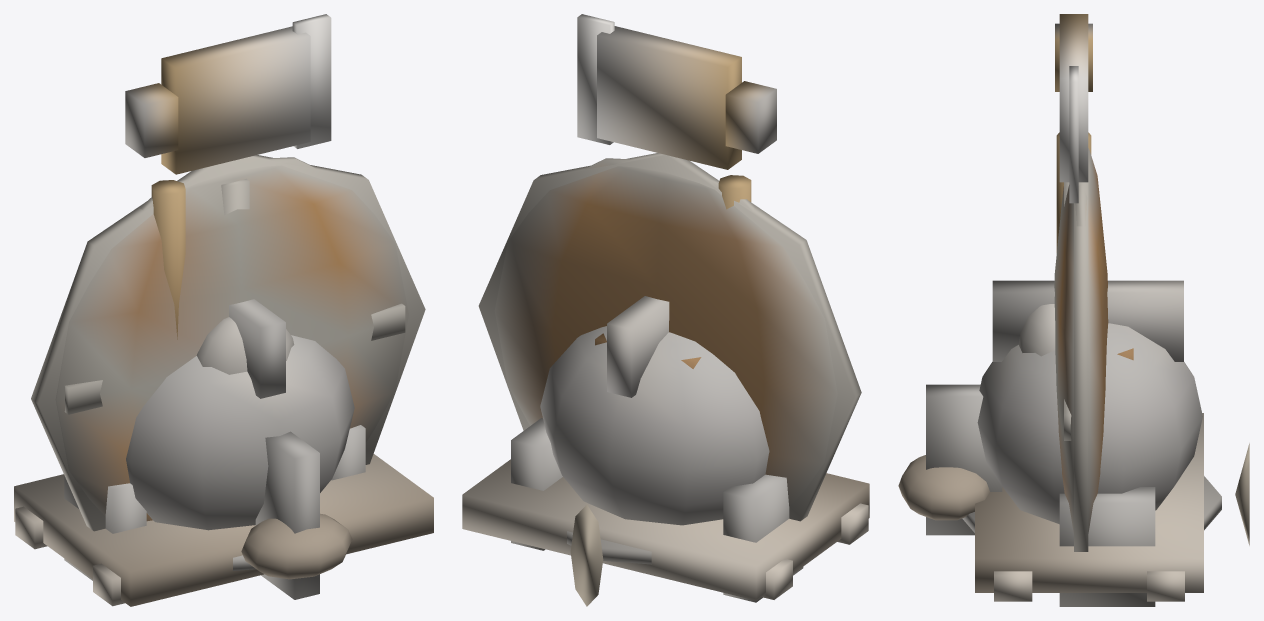
File: items.glb
The picture shows the model from 3 angles, left to right: view 1: azimuth 30°, elevation 25°; view 2: azimuth 150°, elevation 25°; view 3: azimuth 270°, elevation 25°; orthographic projection. The views are drawn at different scales.
Visible parts, largest first — view 1: Shield, Helmet, WolfPelt, Axe; view 2: Shield, Helmet, WolfPelt, Axe; view 3: Helmet, WolfPelt, Shield, Axe.
Part boxes in pixels (x1,y1,x2,y2): Shield: (31,155,425,531); Helmet: (64,299,365,599); WolfPelt: (14,454,433,606); Axe: (125,14,331,339); Shield: (478,153,861,521); Helmet: (511,296,803,602); WolfPelt: (462,459,869,606); Axe: (577,14,776,209); Helmet: (926,280,1221,606); WolfPelt: (898,413,1249,601); Shield: (1018,148,1133,551); Axe: (1055,14,1092,252).
Size of the model in its own units: 0.46 by 0.59 by 0.3675.
